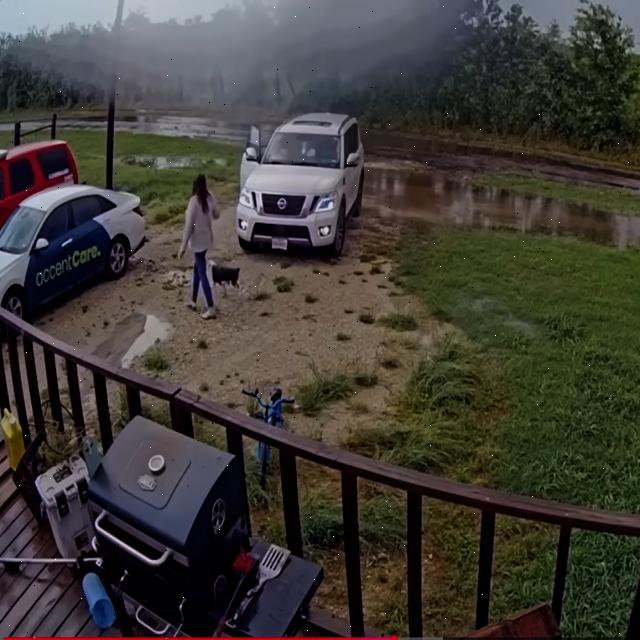standing: (178, 174, 220, 318)
